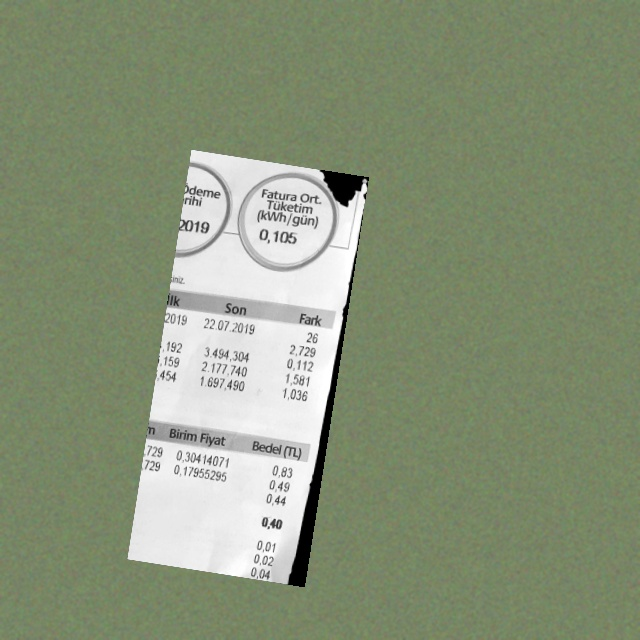electricity-bill: (127, 149, 369, 587)
